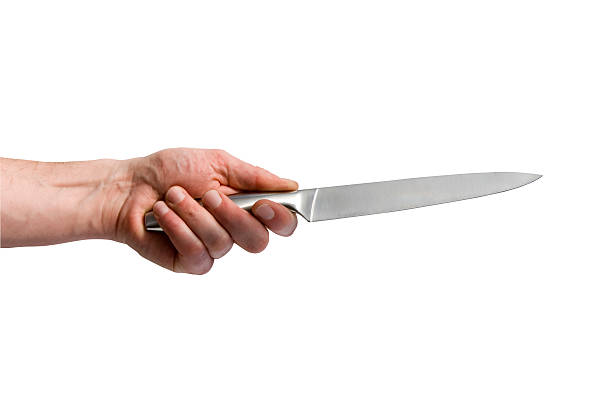knife: (142, 170, 546, 234)
